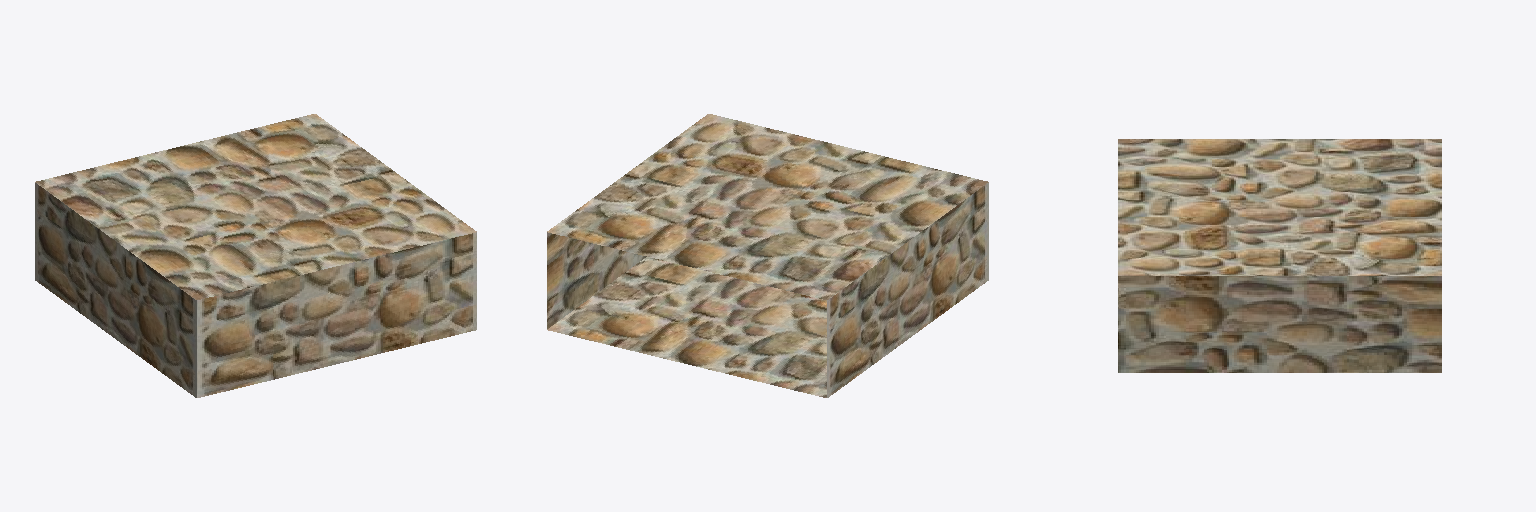
3 views of the same model, side by side, from view 1: azimuth 30°, elevation 25°; view 2: azimuth 150°, elevation 25°; view 3: azimuth 270°, elevation 25° (orthographic).
Visible parts, largest first — view 1: Vertex_Object; view 2: Vertex_Object; view 3: Vertex_Object.
Part boxes in pixels (x1,y1,x2,y2): Vertex_Object: (35,114,476,397); Vertex_Object: (547,114,988,397); Vertex_Object: (1118,139,1441,372).
Bounding box in the file's own units: 72 × 24 × 72.
1 materials, 1 textured.